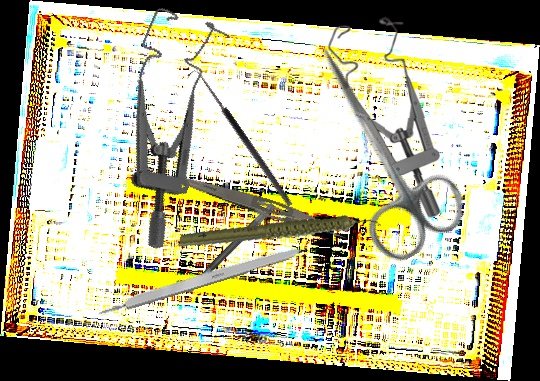Dressing Forceps: (174, 171, 353, 244)
Fixation Ring: (174, 194, 277, 297)
Handpiece: (178, 191, 383, 276)
Hook Surgical: (186, 67, 294, 212)
Iris Scissors: (276, 24, 477, 270)
Scalpel Handle: (93, 240, 310, 319)
Speculum: (72, 1, 250, 252), (323, 15, 447, 220)
